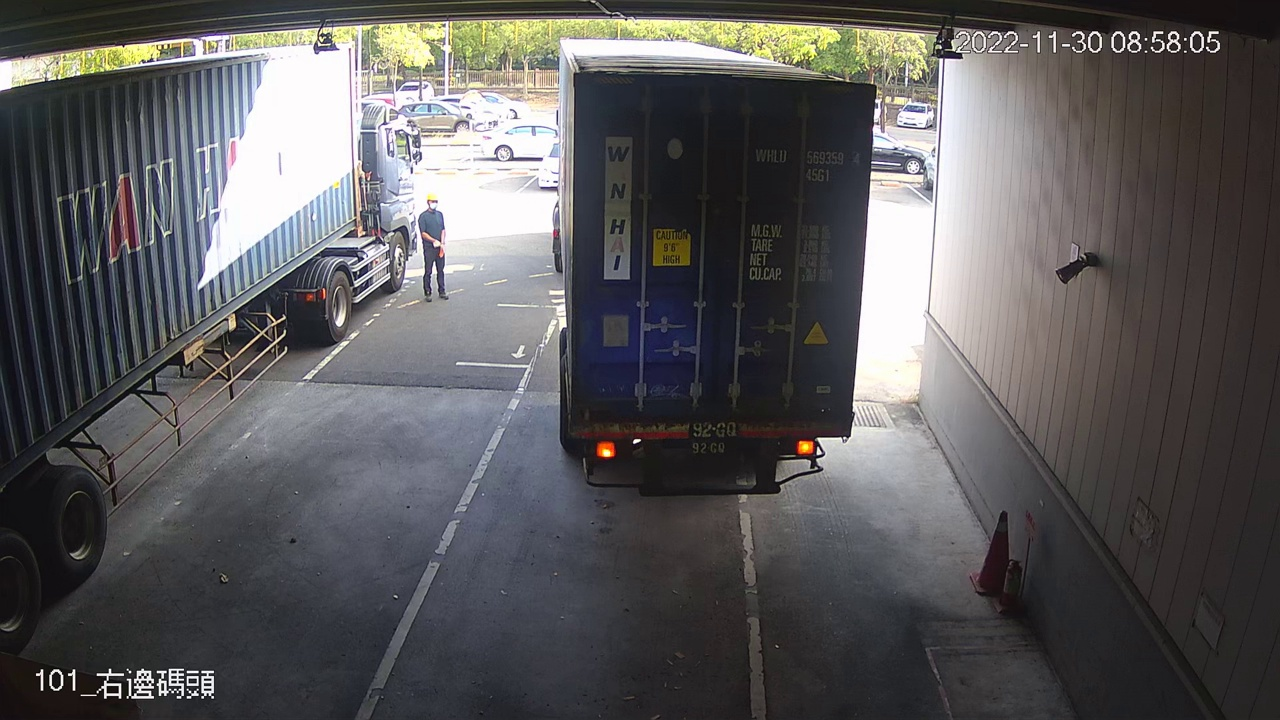container: (752, 139, 865, 189)
